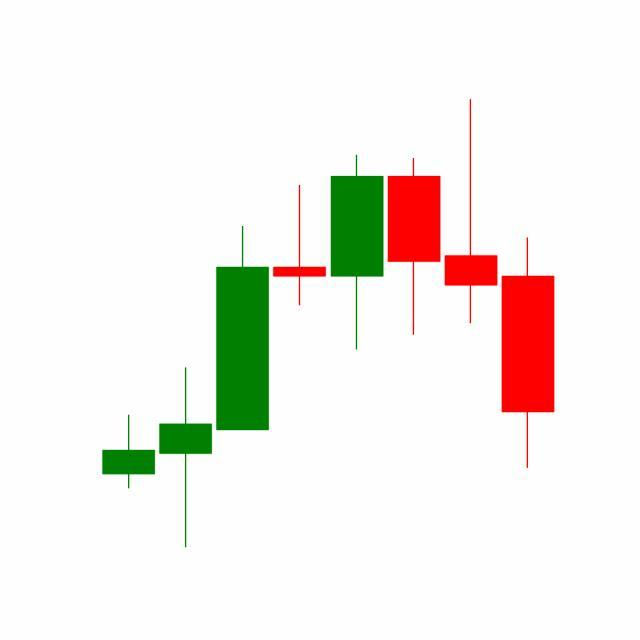Hikkake Pattern: (270, 100, 555, 474)
